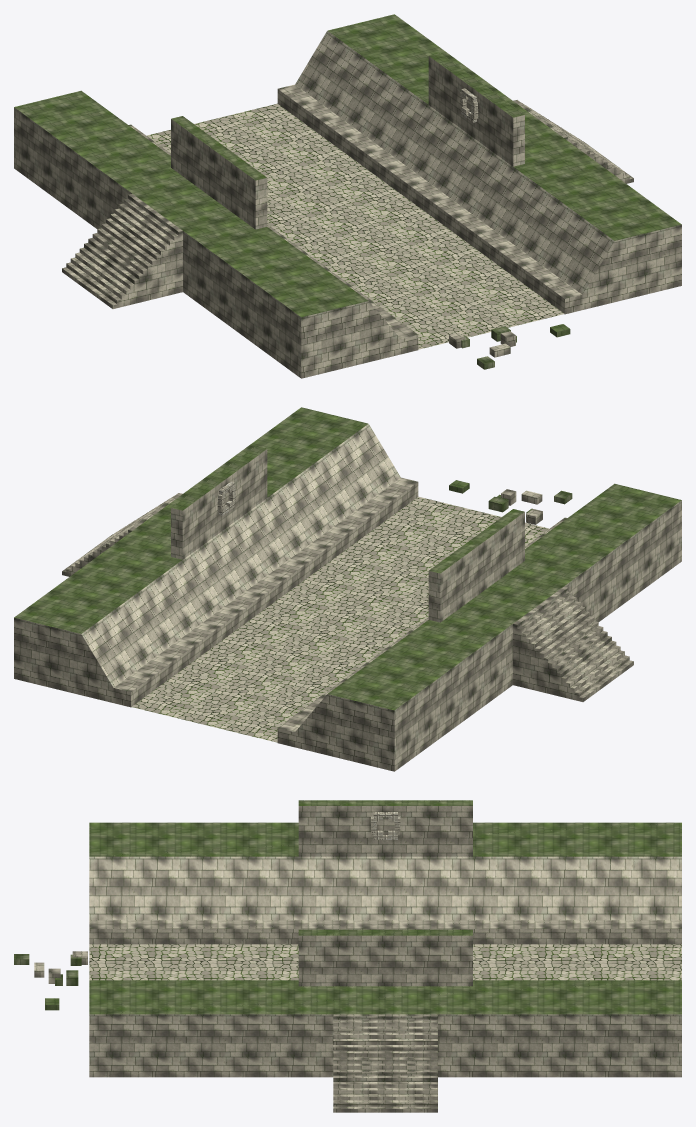
The model's file is ruin-ballcourt.zfix-v11b.lod1.glb.
The picture shows the model from 3 angles, top to bottom: view 1: azimuth 30°, elevation 25°; view 2: azimuth 150°, elevation 25°; view 3: azimuth 270°, elevation 25°; orthographic projection. The views are drawn at different scales.
Parts seen in each view (by area): view 1: ruin-ballcourt; view 2: ruin-ballcourt; view 3: ruin-ballcourt.
Boxes of the visible parts, x1,y1,x2,y2 form: ruin-ballcourt: (14, 14, 681, 378); ruin-ballcourt: (14, 407, 681, 771); ruin-ballcourt: (14, 800, 681, 1112).
Bounding box in the file's own units: 35.6 × 7.2 × 38.33.
4 materials, 4 textured.
